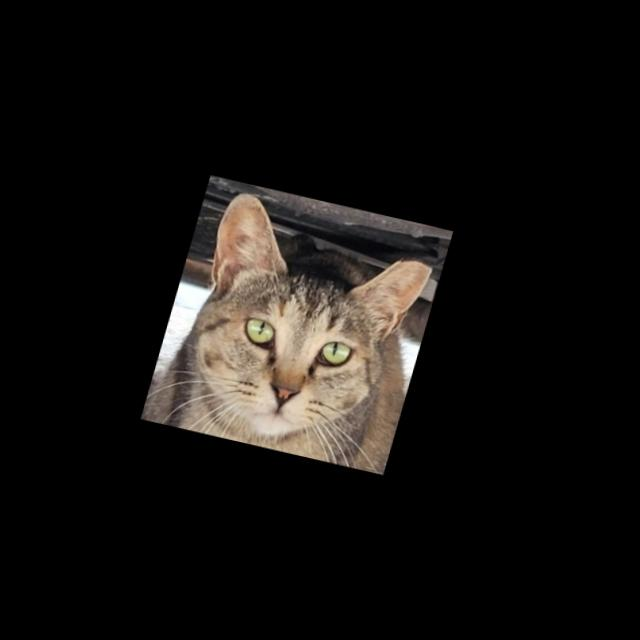animals: (160, 186, 447, 458)
